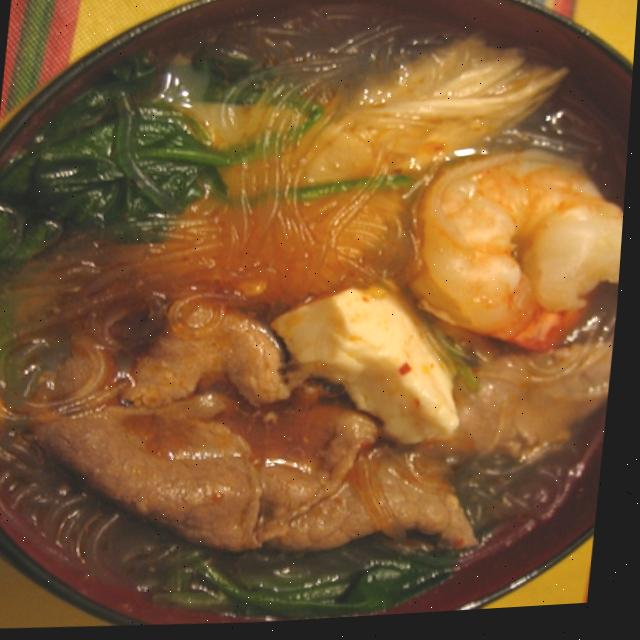汤锅炖物: (15, 0, 640, 638)
